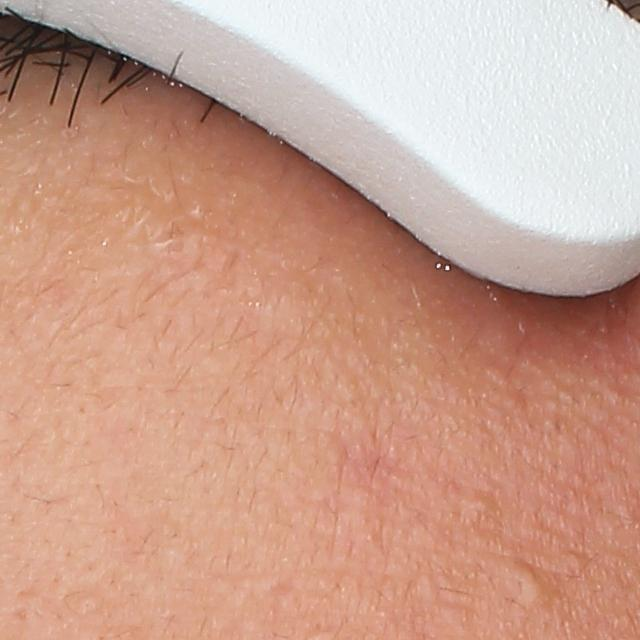comedo: (504, 560, 544, 604), (472, 494, 496, 516)
